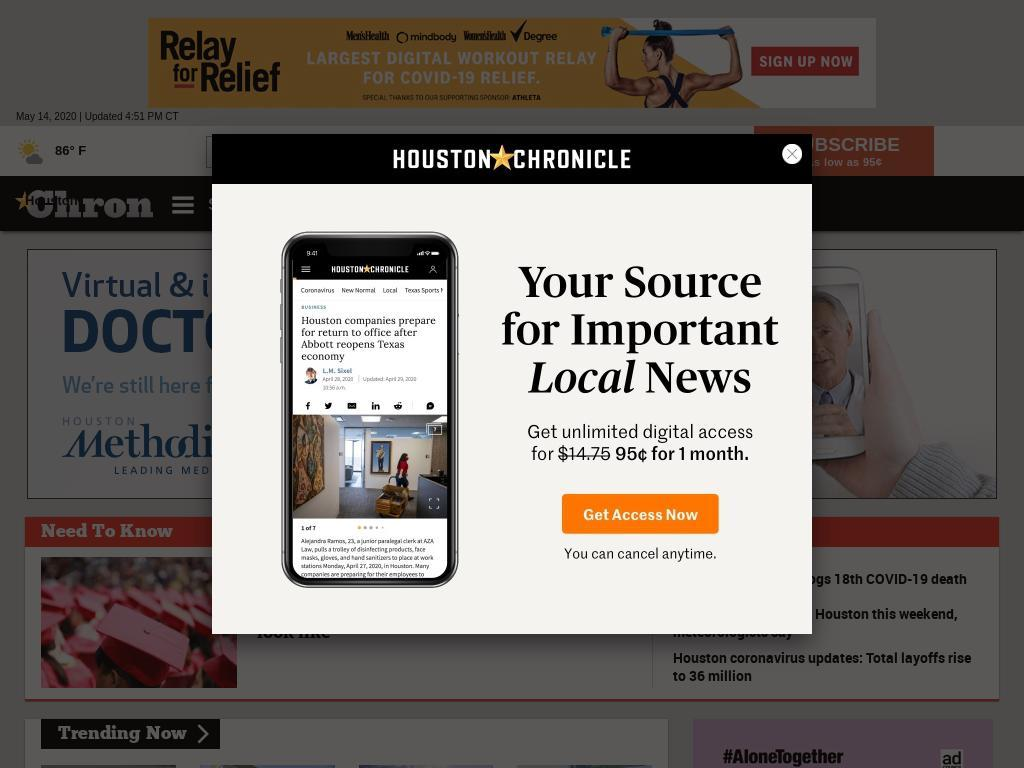button: (212, 134, 812, 634), (41, 557, 257, 688), (754, 124, 935, 178), (153, 176, 285, 231), (489, 130, 532, 172), (531, 130, 574, 172), (615, 130, 658, 172), (657, 130, 700, 172), (573, 130, 615, 172), (778, 134, 812, 168)
field: (215, 139, 400, 165), (411, 144, 427, 159)
heading: (87, 522, 173, 541), (58, 724, 141, 743), (41, 522, 87, 541), (141, 724, 187, 743)
iframe: (27, 249, 997, 499), (148, 18, 876, 108), (692, 719, 993, 768)
image: (212, 134, 812, 634), (41, 557, 237, 688), (15, 189, 153, 218), (17, 138, 43, 164), (199, 765, 335, 768), (358, 765, 494, 768), (517, 765, 653, 768), (41, 765, 176, 768), (782, 144, 802, 164), (543, 143, 561, 159), (586, 143, 602, 159), (670, 143, 686, 159), (629, 143, 643, 159), (506, 143, 515, 159)
link: (257, 602, 614, 643), (673, 648, 972, 685), (673, 604, 959, 641), (673, 569, 968, 588)
text: (16, 108, 179, 126), (25, 176, 78, 226), (788, 134, 901, 155), (764, 156, 925, 168), (208, 188, 270, 219), (55, 136, 87, 166), (168, 188, 198, 219), (509, 193, 553, 208)
